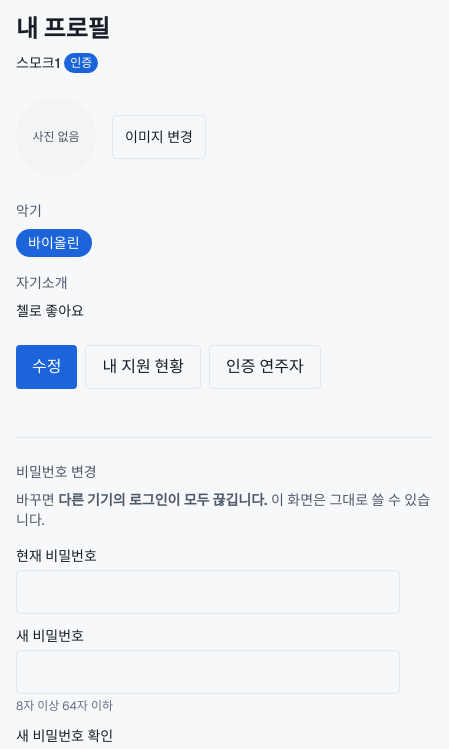
it: ProfilePage › 수정 버튼을 누르면 편집 모드로 전환된다
Click the button "수정".
click(47, 367)  # box left=16, top=345, right=78, bottom=389
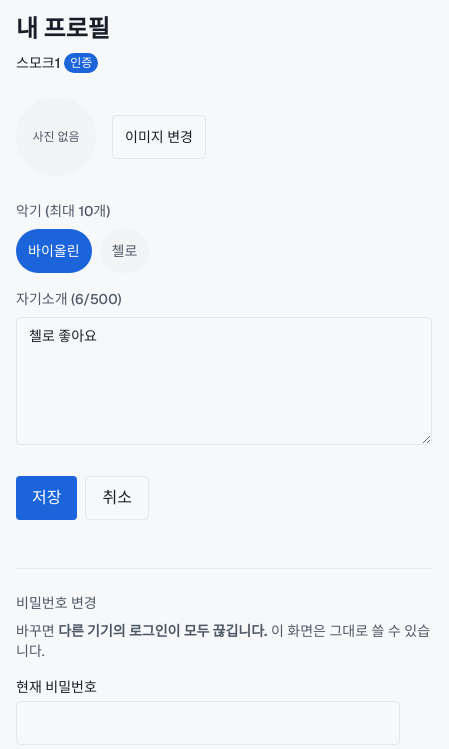
Check: the button "첼로" is shown, box left=100, top=229, right=149, bottom=273
Check: the button "저장" is shown, box left=16, top=476, right=78, bottom=520
